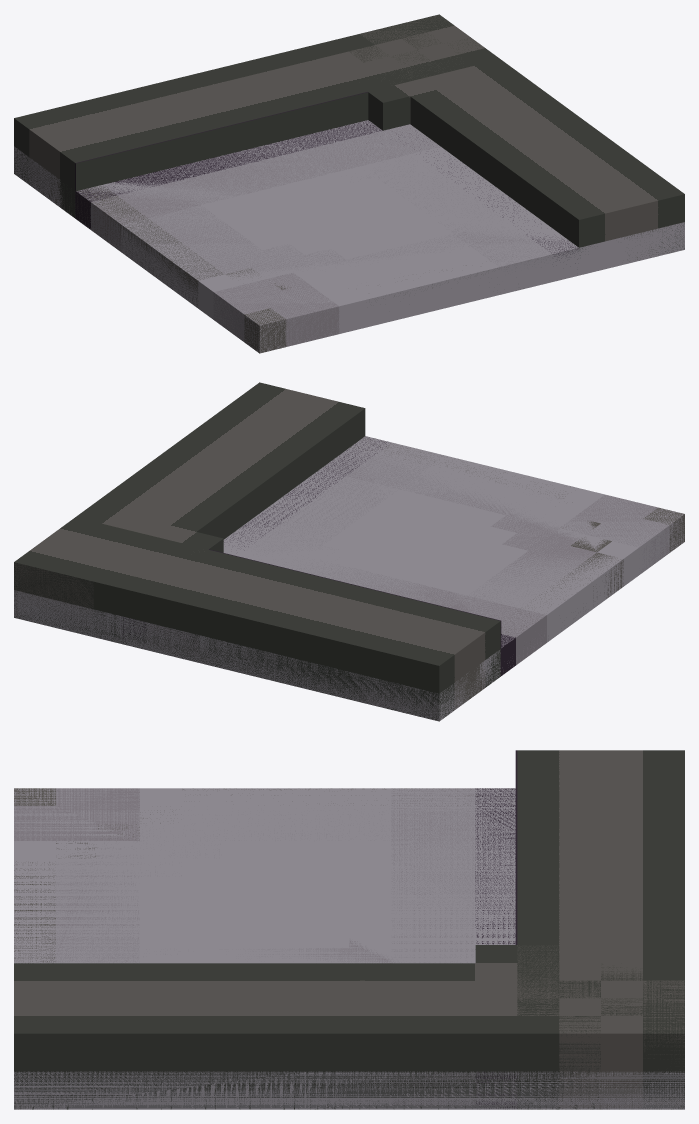
Rendered from road-floor-tiles.glb.
3 renders of one model, top to bottom at view 1: azimuth 30°, elevation 25°; view 2: azimuth 150°, elevation 25°; view 3: azimuth 270°, elevation 25°, orthographic. The views are drawn at different scales.
Parts seen in each view (by area): view 1: p-4-col, p-2-col, p-6-col, p-5-col, p-3-col; view 2: p-4-col, p-6-col, p-5-col, p-2-col, p-3-col; view 3: p-6-col, p-4-col, p-2-col, p-5-col, p-3-col.
Boxes of the visible parts, x1,y1,x2,y2 form: p-4-col: (14, 14, 576, 351); p-2-col: (14, 120, 684, 353); p-6-col: (14, 28, 684, 351); p-5-col: (14, 15, 684, 352); p-3-col: (15, 121, 683, 306); p-4-col: (14, 436, 684, 721); p-6-col: (67, 382, 684, 720); p-5-col: (14, 437, 681, 720); p-2-col: (14, 436, 684, 721); p-3-col: (15, 437, 623, 719); p-6-col: (14, 750, 684, 1109); p-4-col: (14, 750, 684, 1109); p-2-col: (14, 788, 684, 1109); p-5-col: (14, 788, 684, 1109); p-3-col: (14, 788, 682, 1109).
Size of the model in its own units: 1.6 by 0.2 by 1.6.
Materials: 10 (10 with a texture image).
